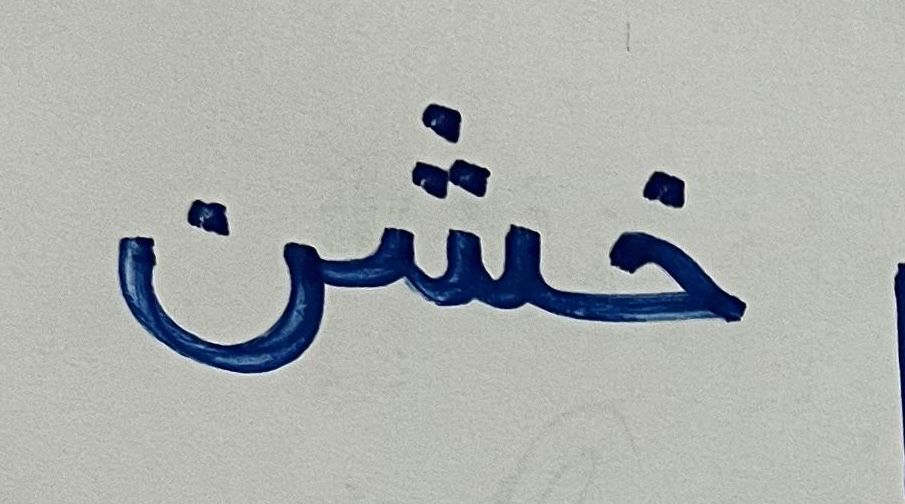khah: (566, 140, 776, 385)
noon: (98, 145, 346, 436)
sheen: (358, 60, 558, 364)
